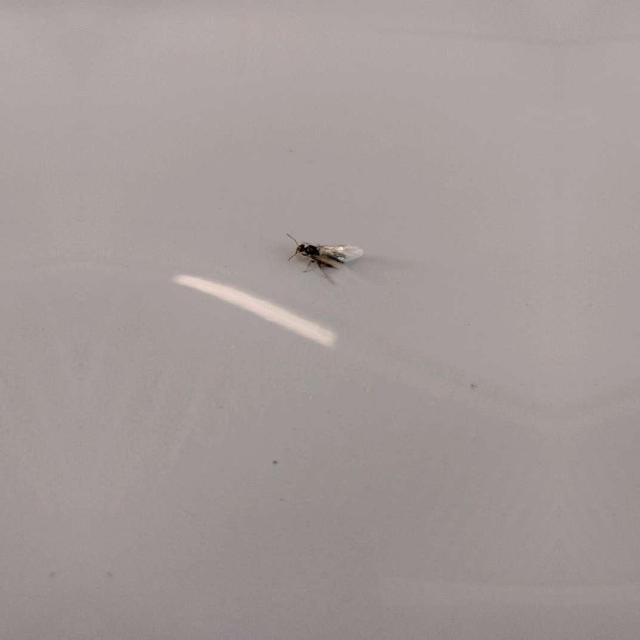Lasius: (282, 232, 368, 286)
